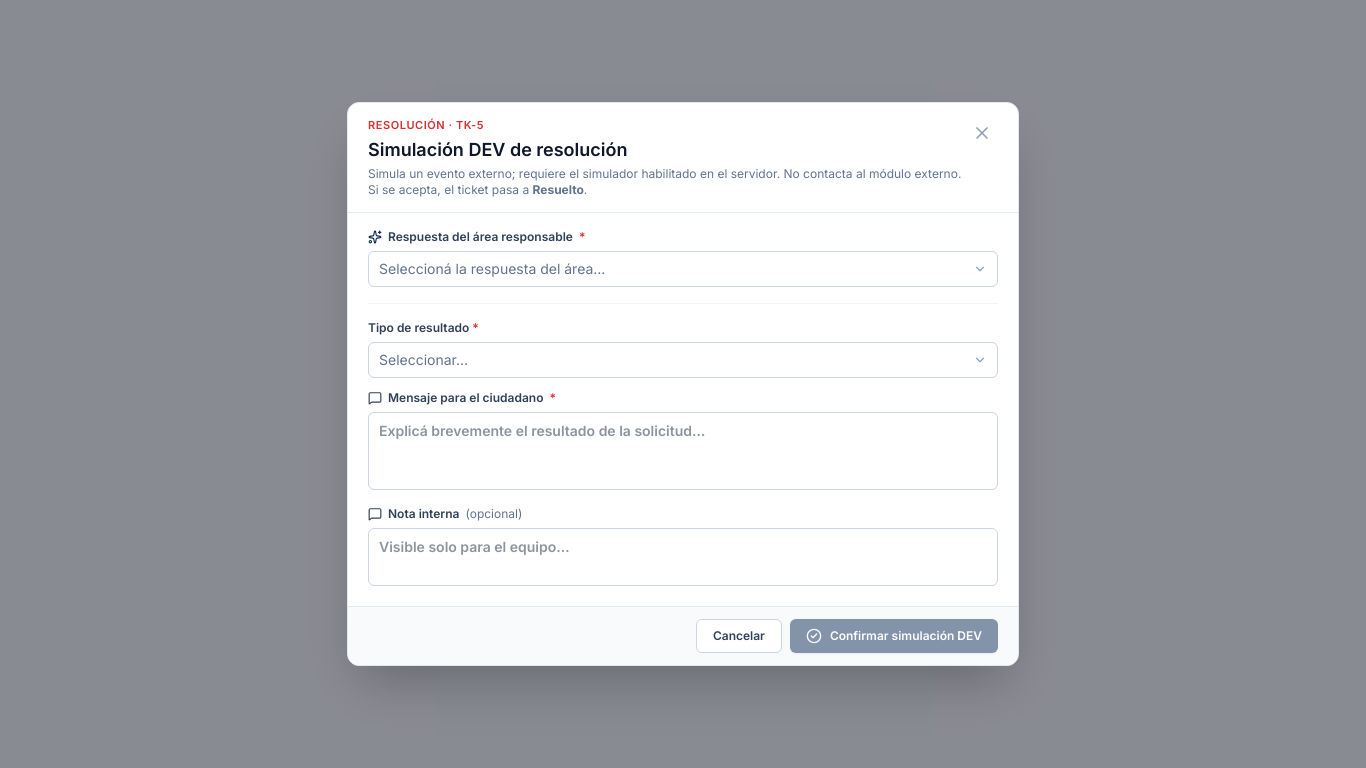
ResolveTicketDialog › en modo simulador precarga tipo y mensajes desde la respuesta del área
This screenshot has width=1366, height=768.
Later steps or results of the test are not shown.
Expected: the heading "Simulación DEV de resolución" is shown, [368,139,628,160]
Expected: the button "Confirmar simulación DEV" is disabled, [790,619,998,653]
Click the button "Seleccioná la respuesta del área…" at (492, 268), box [368,251,998,287]
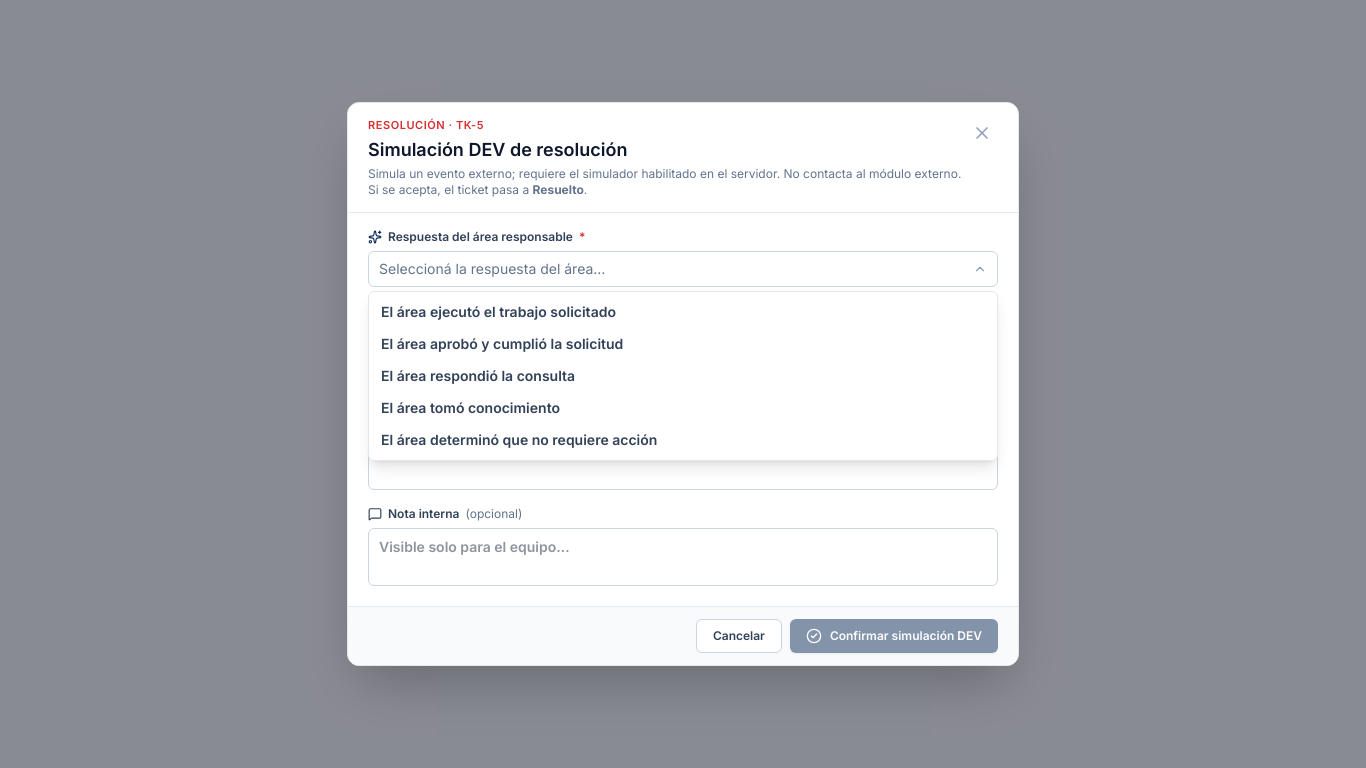
Click the option "El área ejecutó el trabajo solicitado" at (498, 311), box [381,303,616,320]
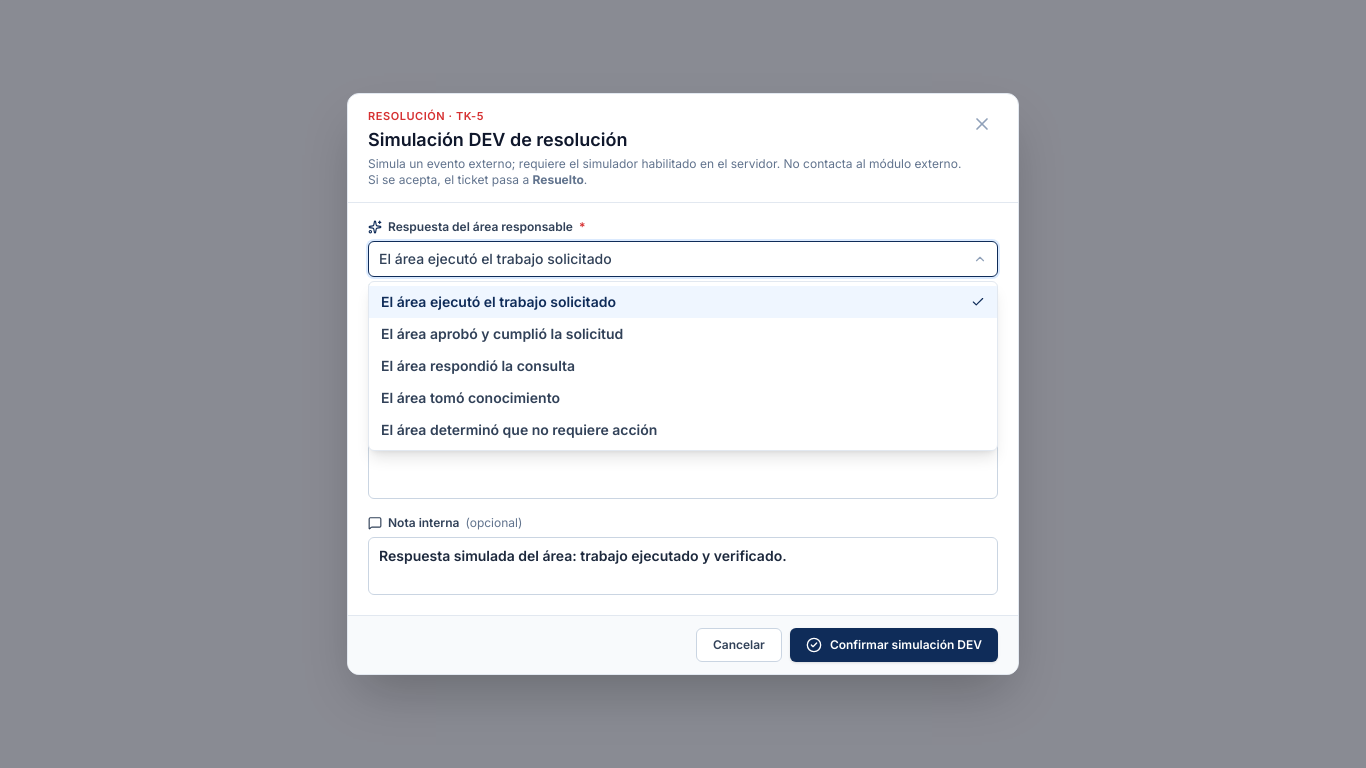
Result: the text "Podés ajustar el resultado" is shown at [368,281,686,295]
